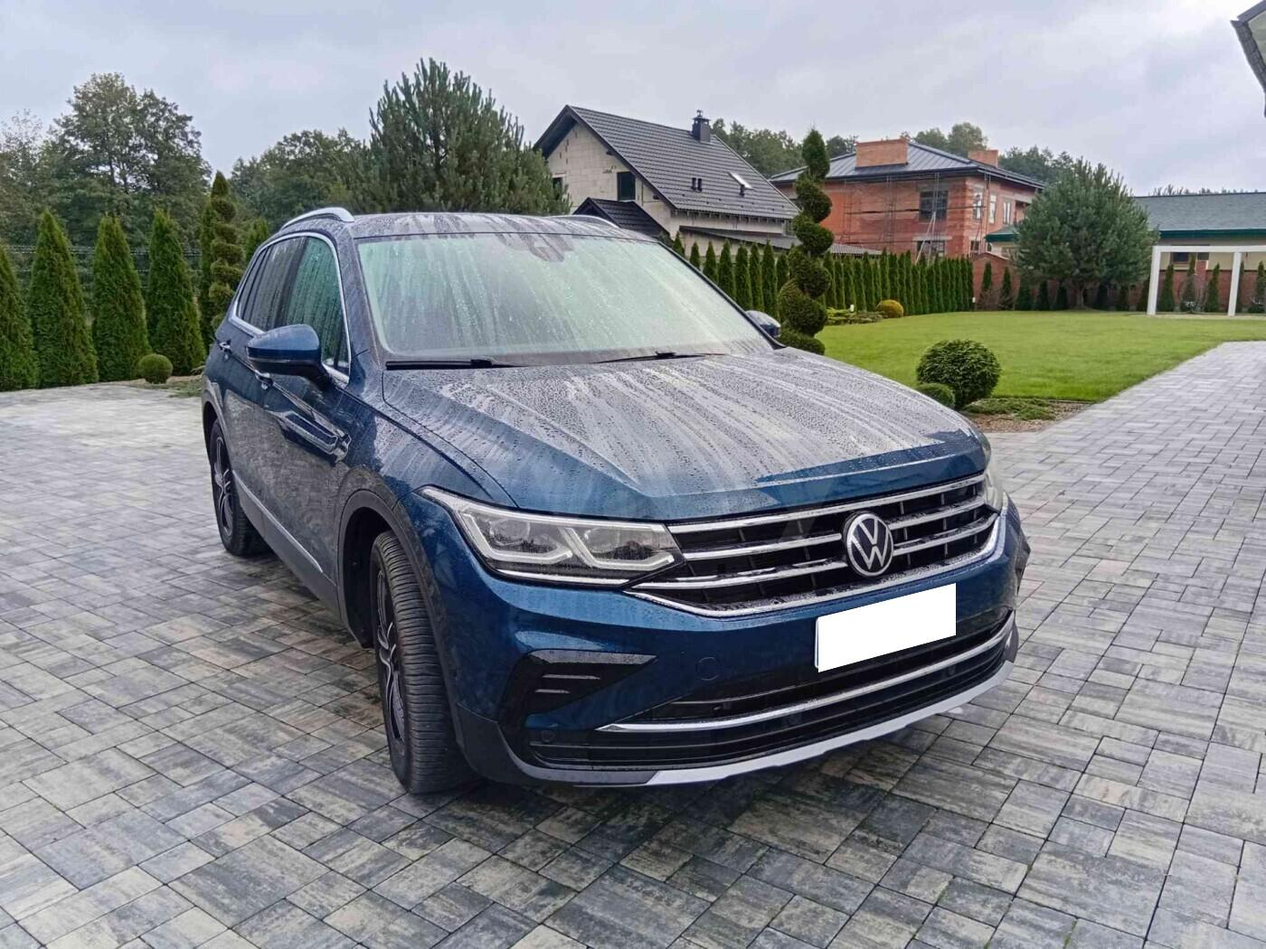Tiguan_2020-2024: (196, 208, 1032, 807)
